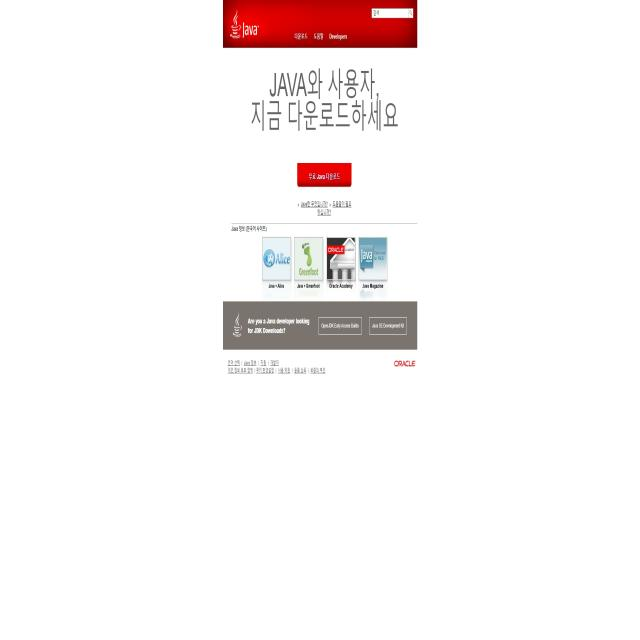menu-bar: (292, 20, 354, 46)
search: (370, 5, 414, 18)
